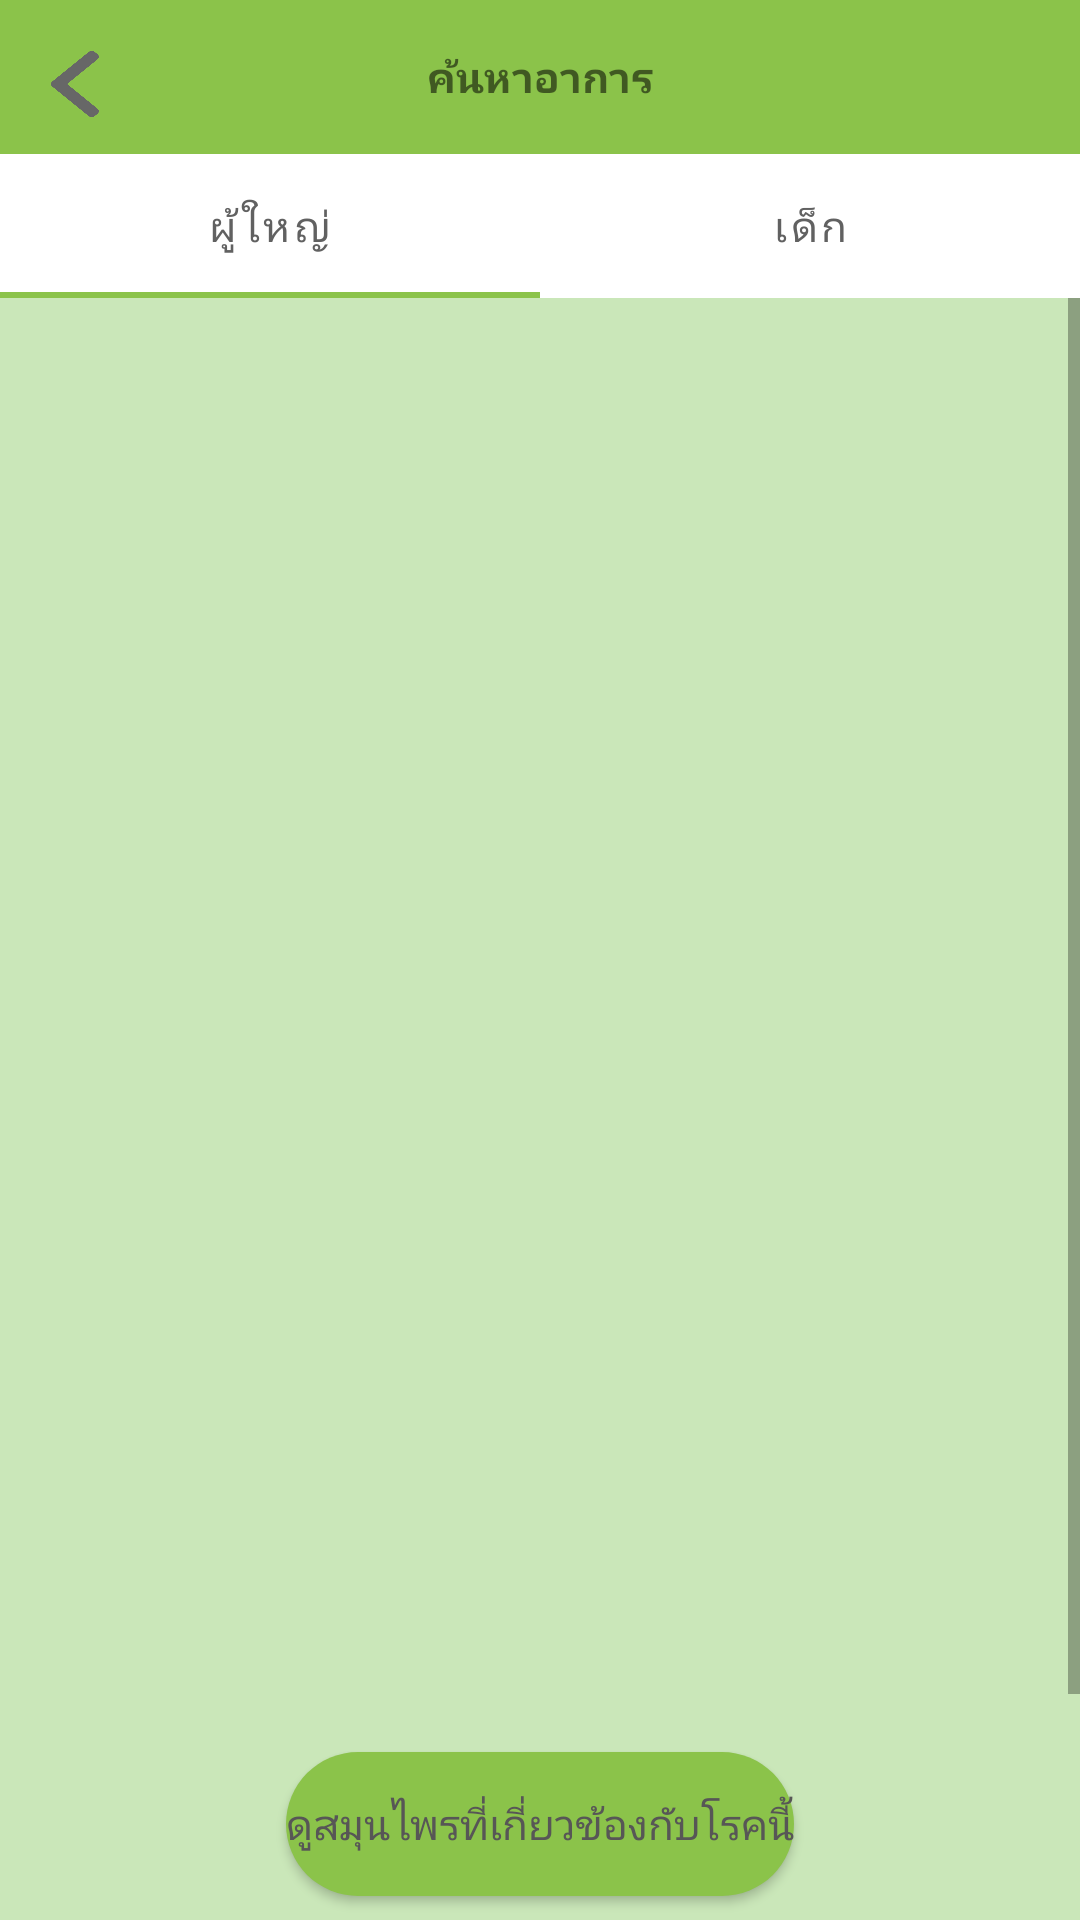

Icons on this 1080px x 1920px Android screen, each with its box as (x1, y1, x2, y2):
left arrow: (51, 51, 99, 117)
